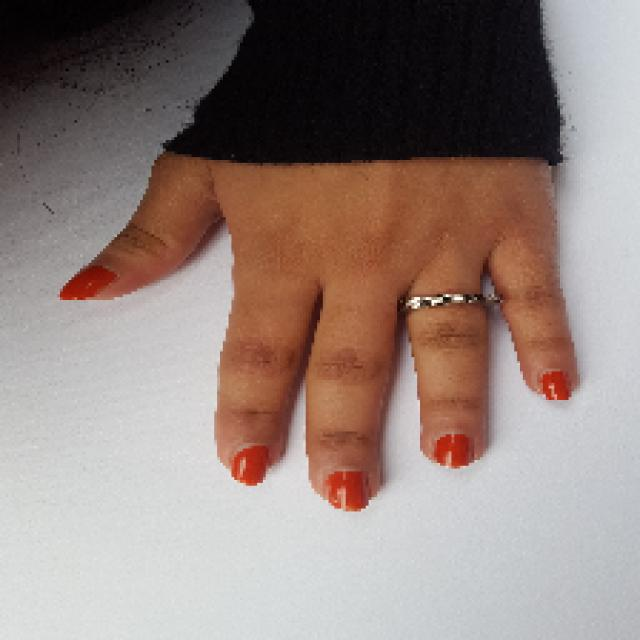Nail: (60, 265, 116, 299), (325, 470, 368, 511), (231, 445, 270, 485), (434, 432, 472, 468), (540, 370, 570, 400)
